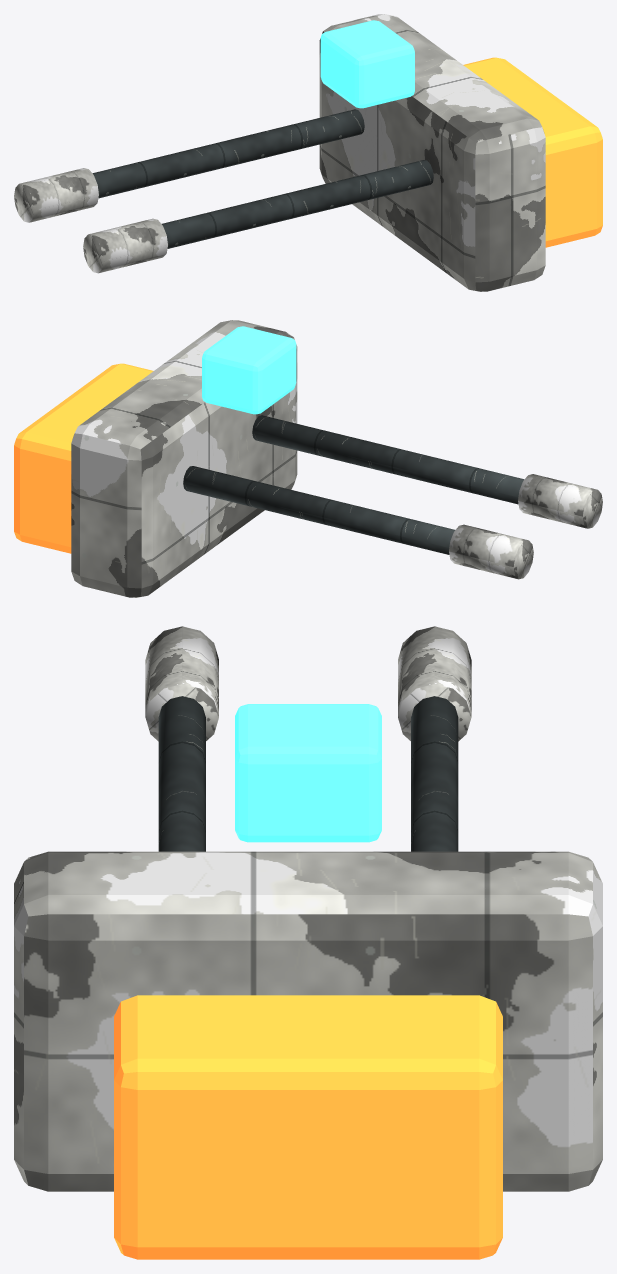
The model's file is machine_gun_turret_turret.glb.
The picture shows the model from 3 angles, top to bottom: view 1: azimuth 30°, elevation 25°; view 2: azimuth 150°, elevation 25°; view 3: azimuth 270°, elevation 25°; orthographic projection. The views are drawn at different scales.
Parts seen in each view (by area): view 1: machine_gun_turret_turret_team_primary, machine_gun_turret_turret_armor_dark, machine_gun_turret_turret_warning_emissive, machine_gun_turret_turret_glass_emissive, machine_gun_turret_turret_team_accent; view 2: machine_gun_turret_turret_team_primary, machine_gun_turret_turret_armor_dark, machine_gun_turret_turret_warning_emissive, machine_gun_turret_turret_glass_emissive, machine_gun_turret_turret_team_accent; view 3: machine_gun_turret_turret_team_primary, machine_gun_turret_turret_warning_emissive, machine_gun_turret_turret_glass_emissive, machine_gun_turret_turret_armor_dark, machine_gun_turret_turret_team_accent.
Part boxes in pixels (x1=…): machine_gun_turret_turret_team_primary: x1=319, y1=14, x2=545, y2=291; machine_gun_turret_turret_armor_dark: x1=92, y1=109, x2=433, y2=248; machine_gun_turret_turret_warning_emissive: x1=463, y1=57, x2=602, y2=247; machine_gun_turret_turret_glass_emissive: x1=320, y1=20, x2=414, y2=108; machine_gun_turret_turret_team_accent: x1=14, y1=168, x2=167, y2=273; machine_gun_turret_turret_team_primary: x1=71, y1=320, x2=297, y2=597; machine_gun_turret_turret_armor_dark: x1=183, y1=415, x2=524, y2=554; machine_gun_turret_turret_warning_emissive: x1=14, y1=363, x2=153, y2=553; machine_gun_turret_turret_glass_emissive: x1=202, y1=326, x2=296, y2=414; machine_gun_turret_turret_team_accent: x1=449, y1=474, x2=602, y2=579; machine_gun_turret_turret_team_primary: x1=14, y1=851, x2=602, y2=1191; machine_gun_turret_turret_warning_emissive: x1=114, y1=995, x2=502, y2=1259; machine_gun_turret_turret_glass_emissive: x1=235, y1=704, x2=381, y2=842; machine_gun_turret_turret_armor_dark: x1=158, y1=696, x2=458, y2=851; machine_gun_turret_turret_team_accent: x1=145, y1=626, x2=471, y2=741.
Size of the model in its own units: 2.33 by 0.9492 by 1.31.
Materials: 5 (3 with a texture image).
